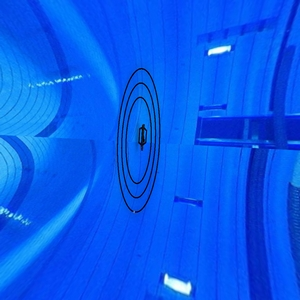circle: (115, 67, 163, 215)
submarine: (137, 123, 152, 151)
